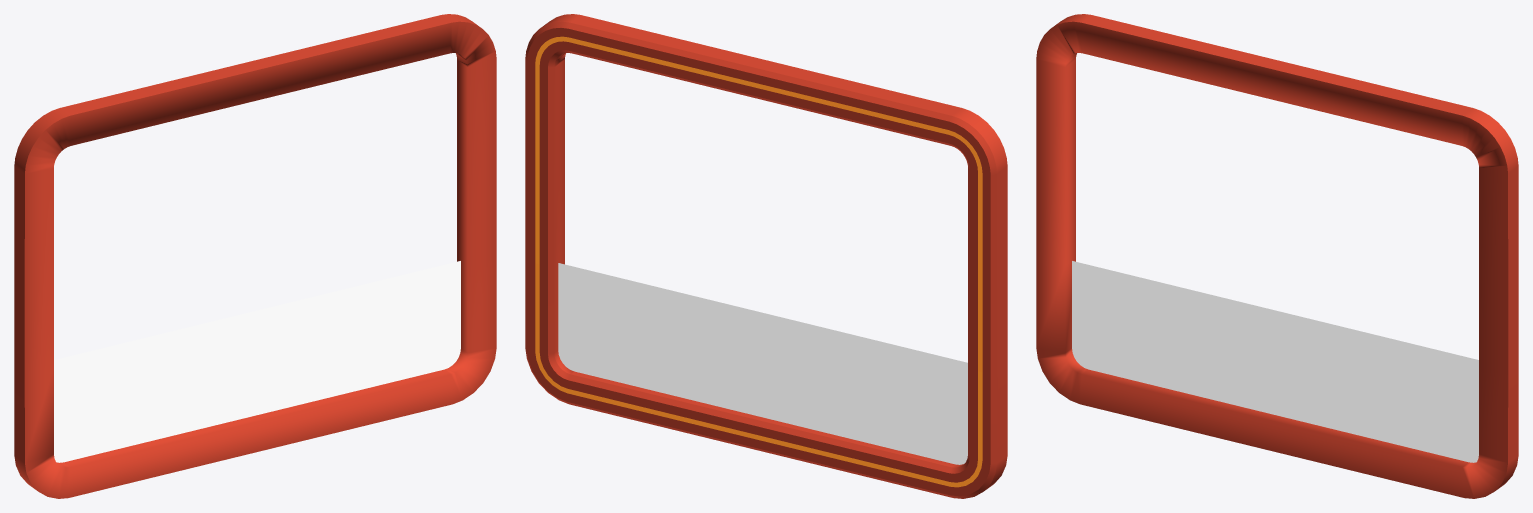
The model's file is event_card_bottom_tall.glb.
3 views of the same model, side by side, from view 1: azimuth 30°, elevation 25°; view 2: azimuth 150°, elevation 25°; view 3: azimuth 330°, elevation 25° (orthographic).
Visible parts, largest first — view 1: frame.002, frame.003; view 2: frame.002, frame.003; view 3: frame.002, frame.003.
Boxes of the visible parts, bbox=[...] form: frame.002: bbox=[14, 14, 496, 498]; frame.003: bbox=[54, 261, 460, 462]; frame.002: bbox=[525, 14, 1007, 498]; frame.003: bbox=[558, 263, 967, 464]; frame.002: bbox=[1036, 14, 1518, 498]; frame.003: bbox=[1072, 261, 1478, 462].
Size of the model in its own units: 3.42 by 2.65 by 0.1618.
Materials: 3 (2 with a texture image).
